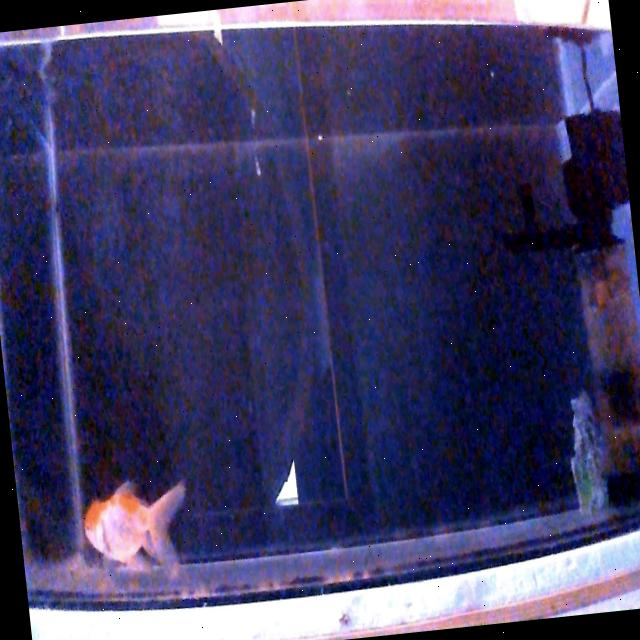fish: (80, 474, 194, 578)
